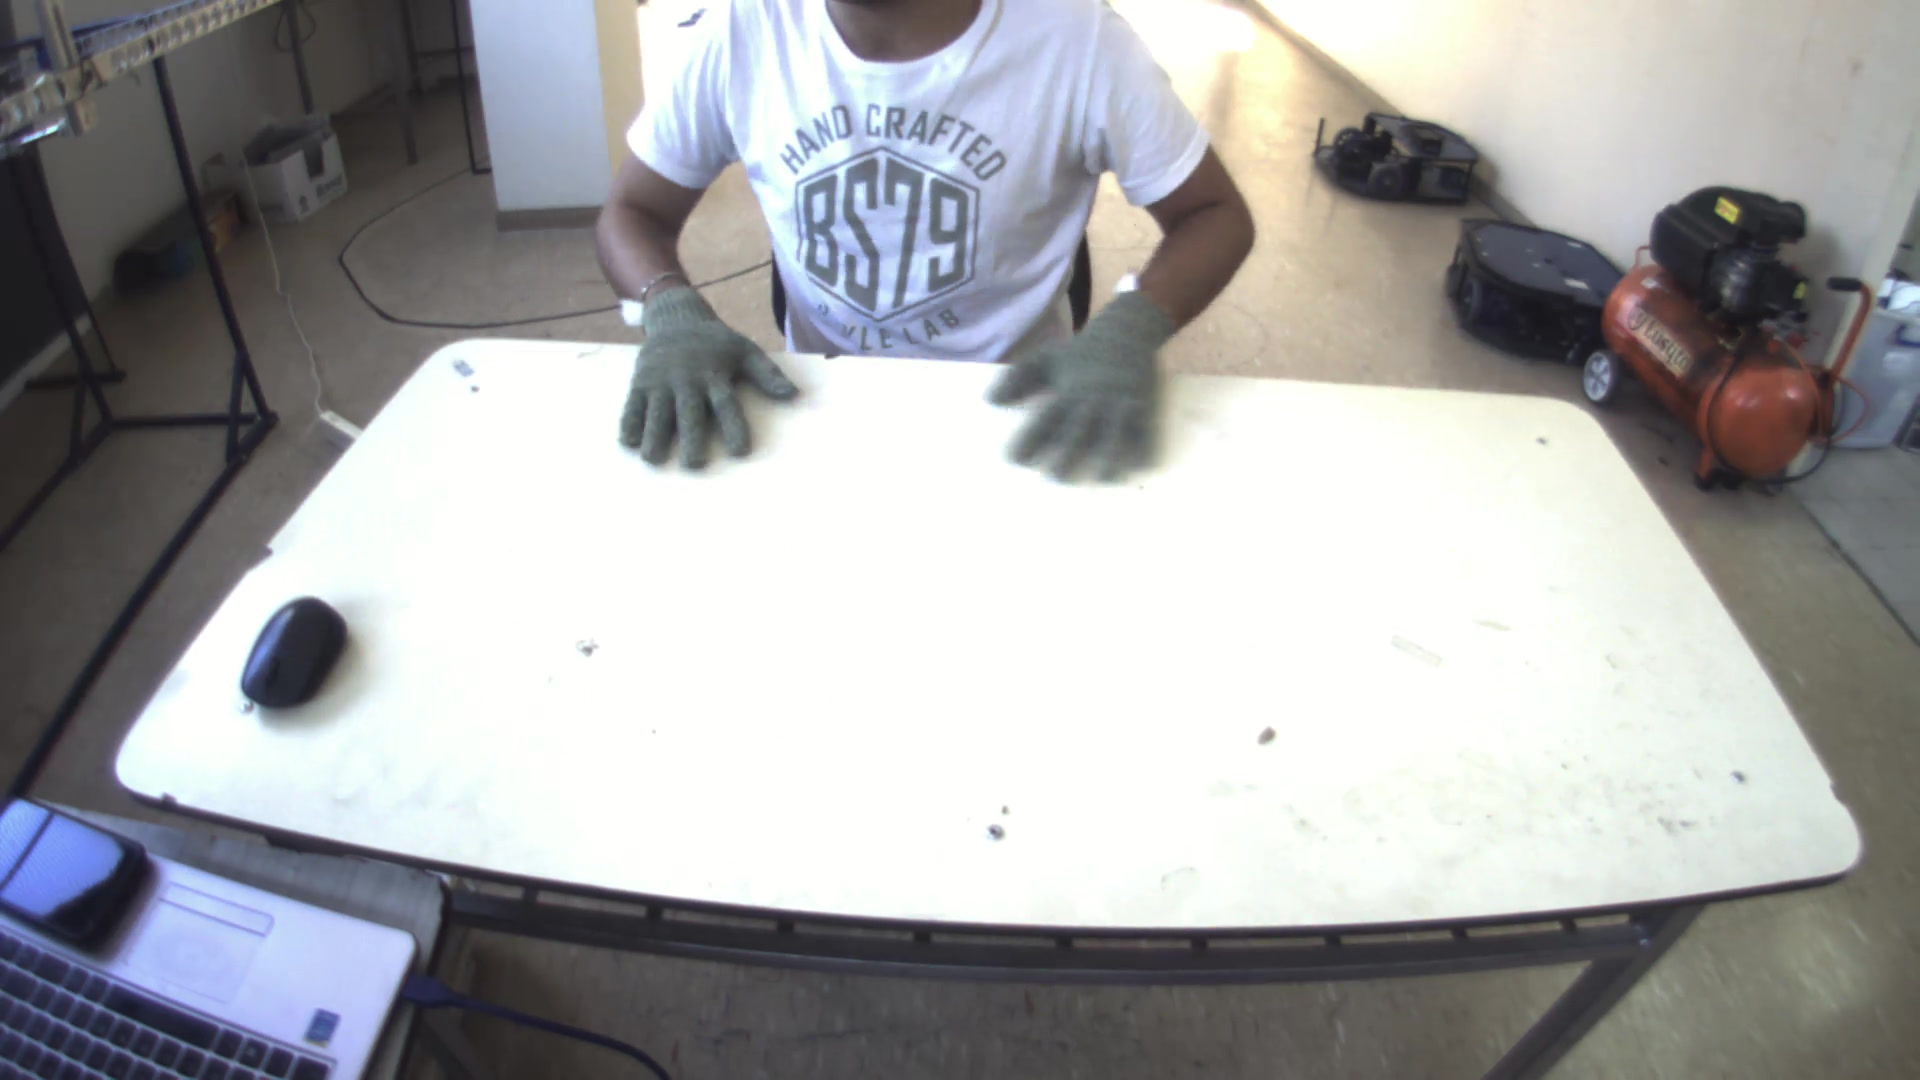hand: (975, 287, 1193, 491), (603, 266, 806, 473)
